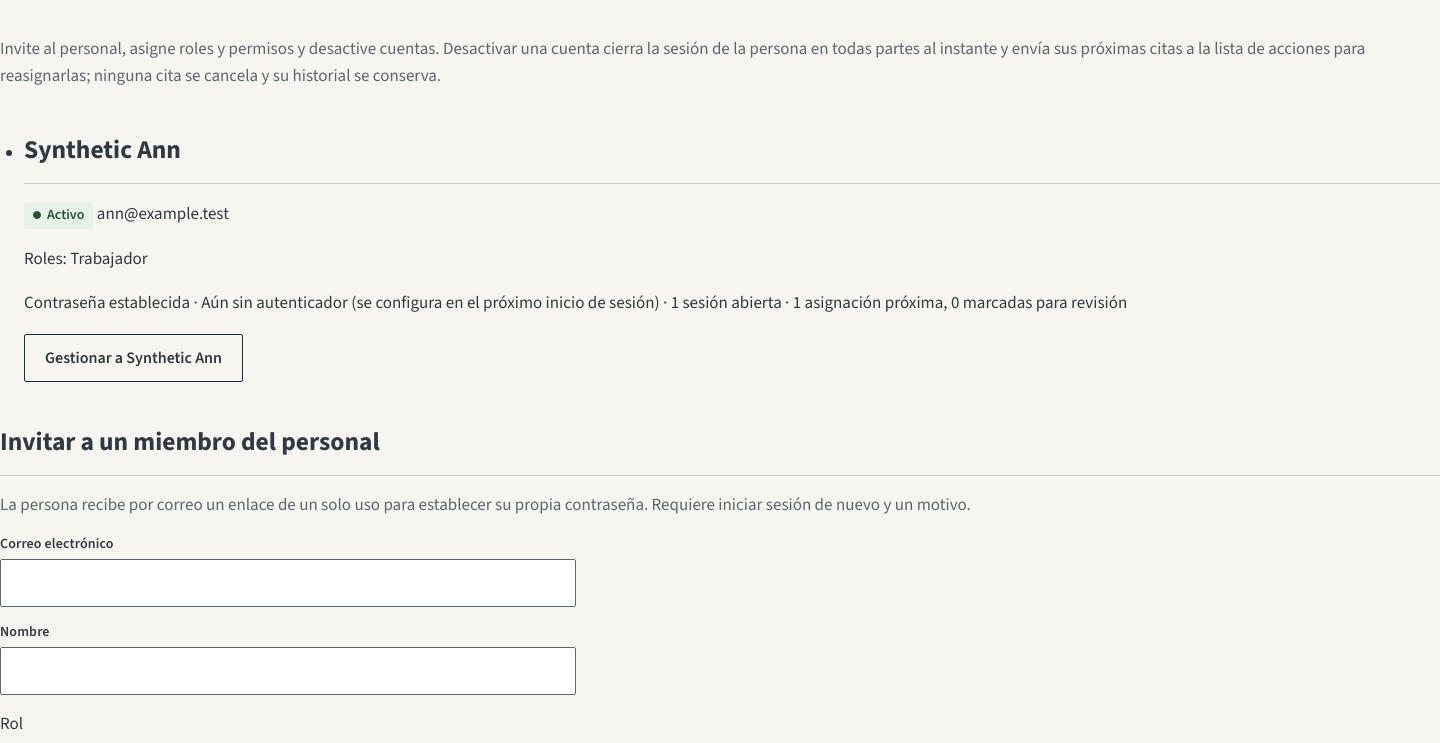
[HH-STAFF-07][HH-STAFF-02] the Staff screen › [HH-STAFF-02] the Owner resets a lost authenticator with a reason; the person enrols again at sign-in (TSK-0154)
Click the button "Gestionar a Synthetic Ann". click: (134,358)
box: left=24, top=334, right=243, bottom=382
(page scrolled)
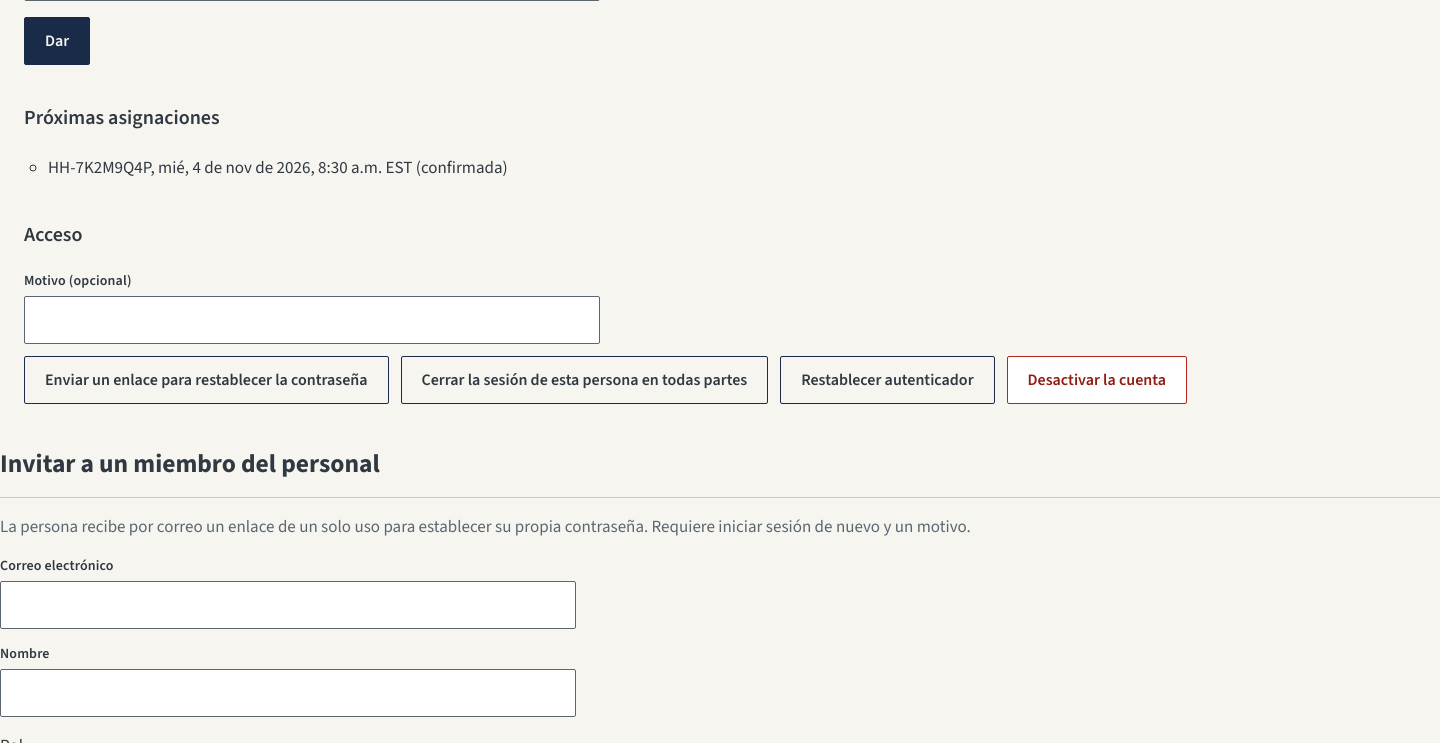
Click the button "Restablecer autenticador". click: (887,380)
box: left=780, top=356, right=995, bottom=404
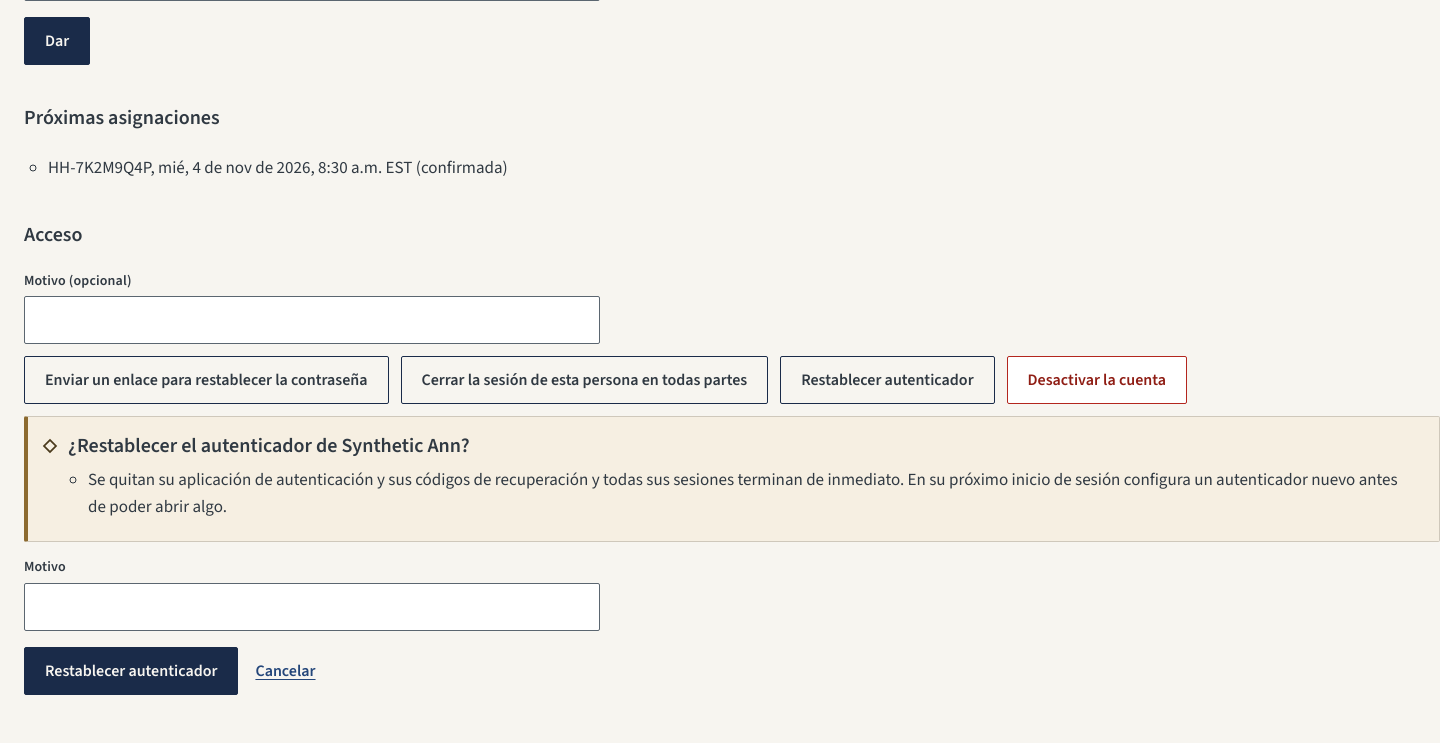
Expected: the form with test id "staff-mfa-reset-confirm" shows "todas sus sesiones terminan de inmediato", left=88, top=468, right=1398, bottom=519
Type "Perdió el teléfono" into the field labelled "Motivo" below "Motivo (opcional)". click: (312,606)
box: left=24, top=582, right=600, bottom=630
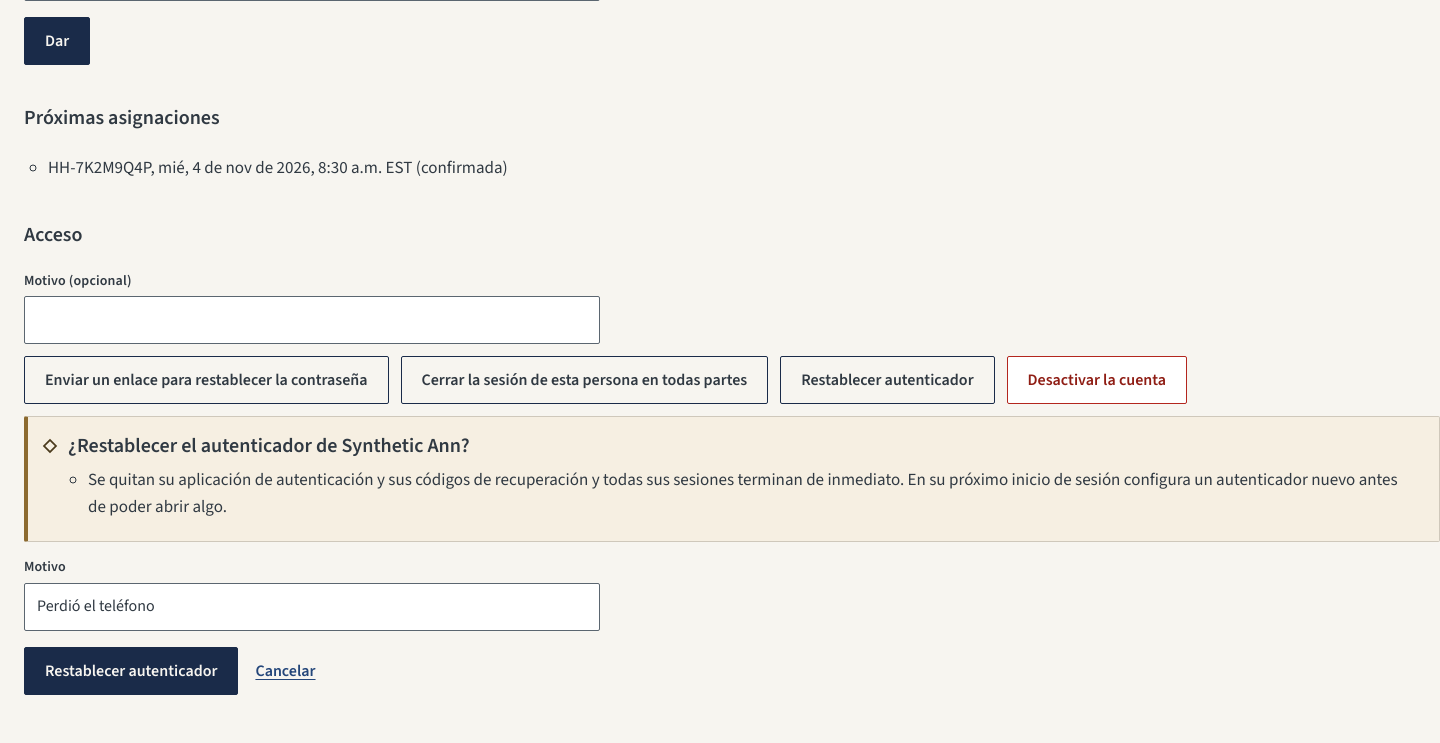
Click the 2nd button "Restablecer autenticador". click: (131,670)
box: left=24, top=646, right=238, bottom=694
(page scrolled)
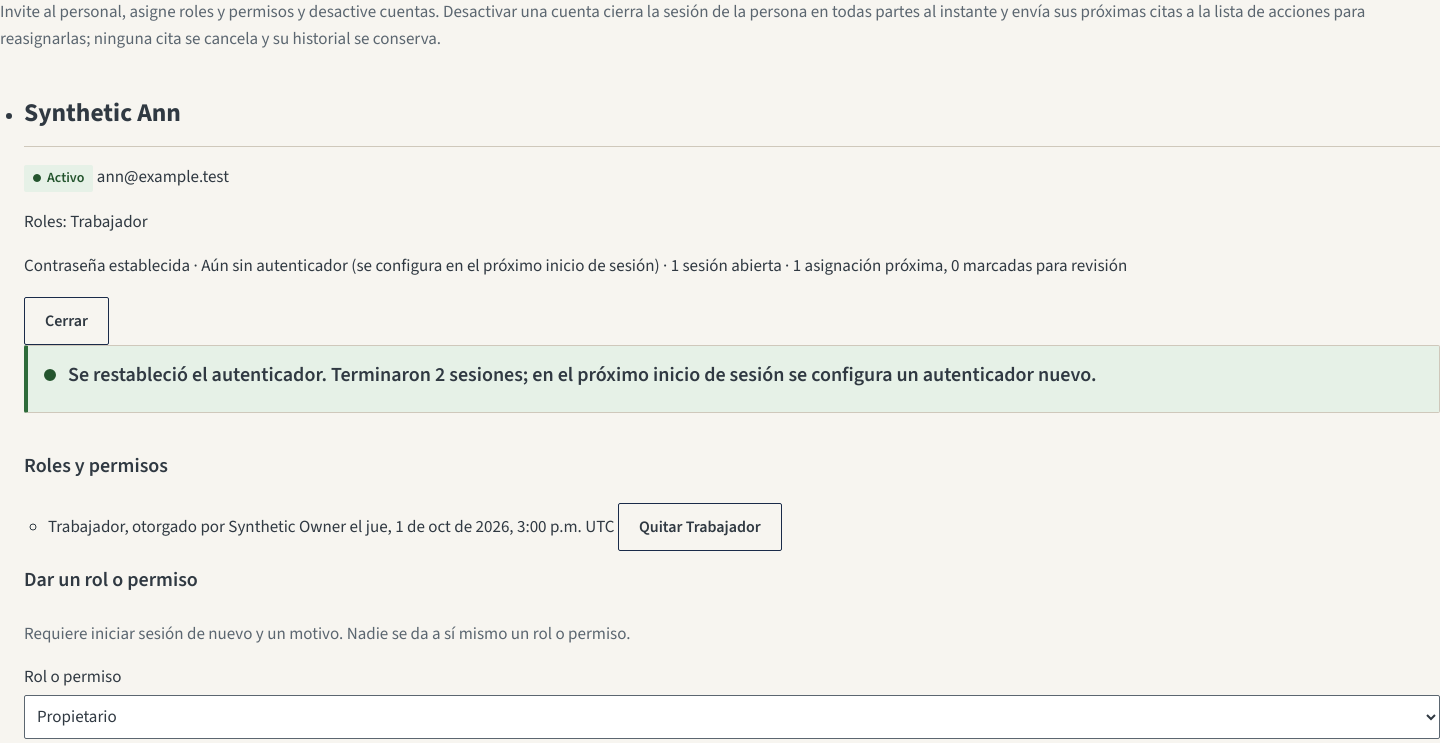
Expected: the message shows "Se restableció el autenticador. Terminaron 2 sesiones; en el próximo inicio de sesión se configura un autenticador nuevo.", left=68, top=361, right=1096, bottom=389
Expected: the button "Restablecer autenticador" is gone
